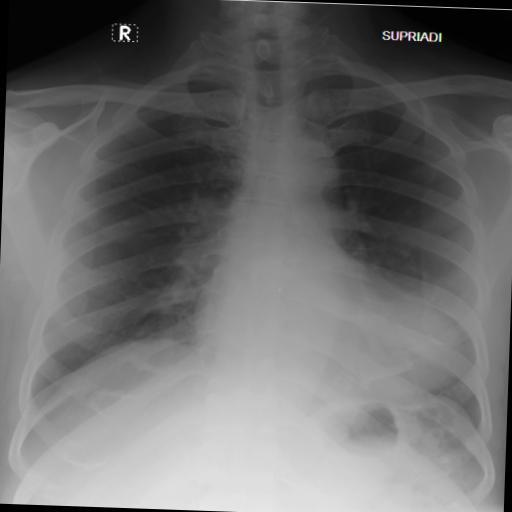kardiomegali: (0, 36, 508, 452)
